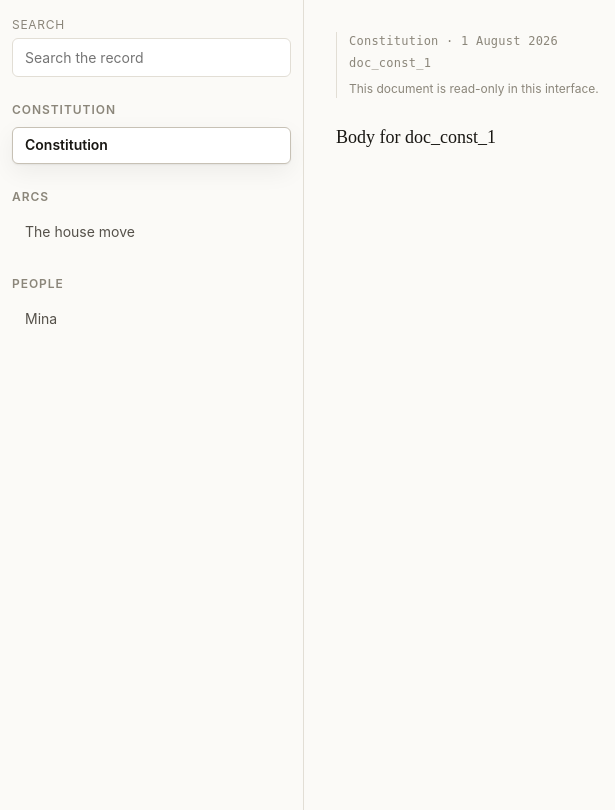
Test: Library › narrows the index with the search input
Expected: the button "Mina" is shown, [12,301,291,338]
In the search field labelled "Search": coordinates (152, 58) [12,38,291,77], type "mina"
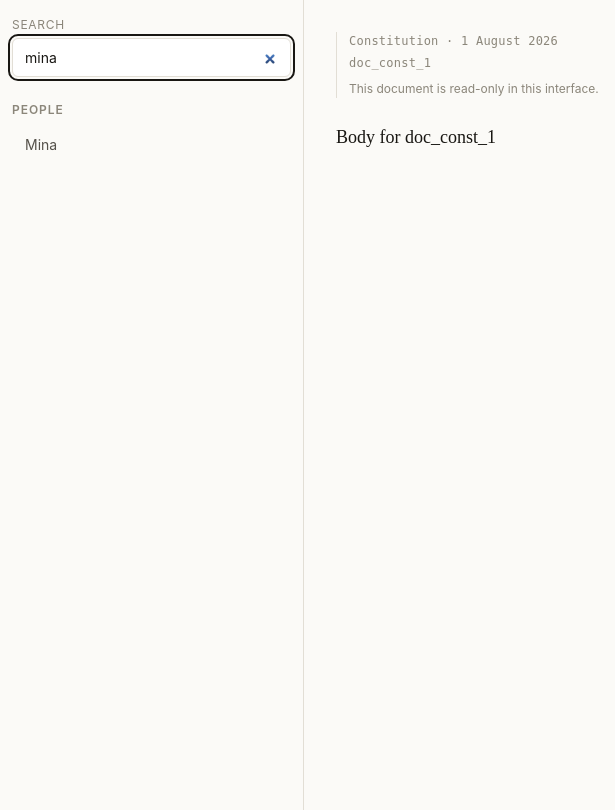
Expected: the button "Mina" is shown, [12,127,291,164]
Result: the button "The house move" is gone
Result: the text "Constitution Constitution" is gone
